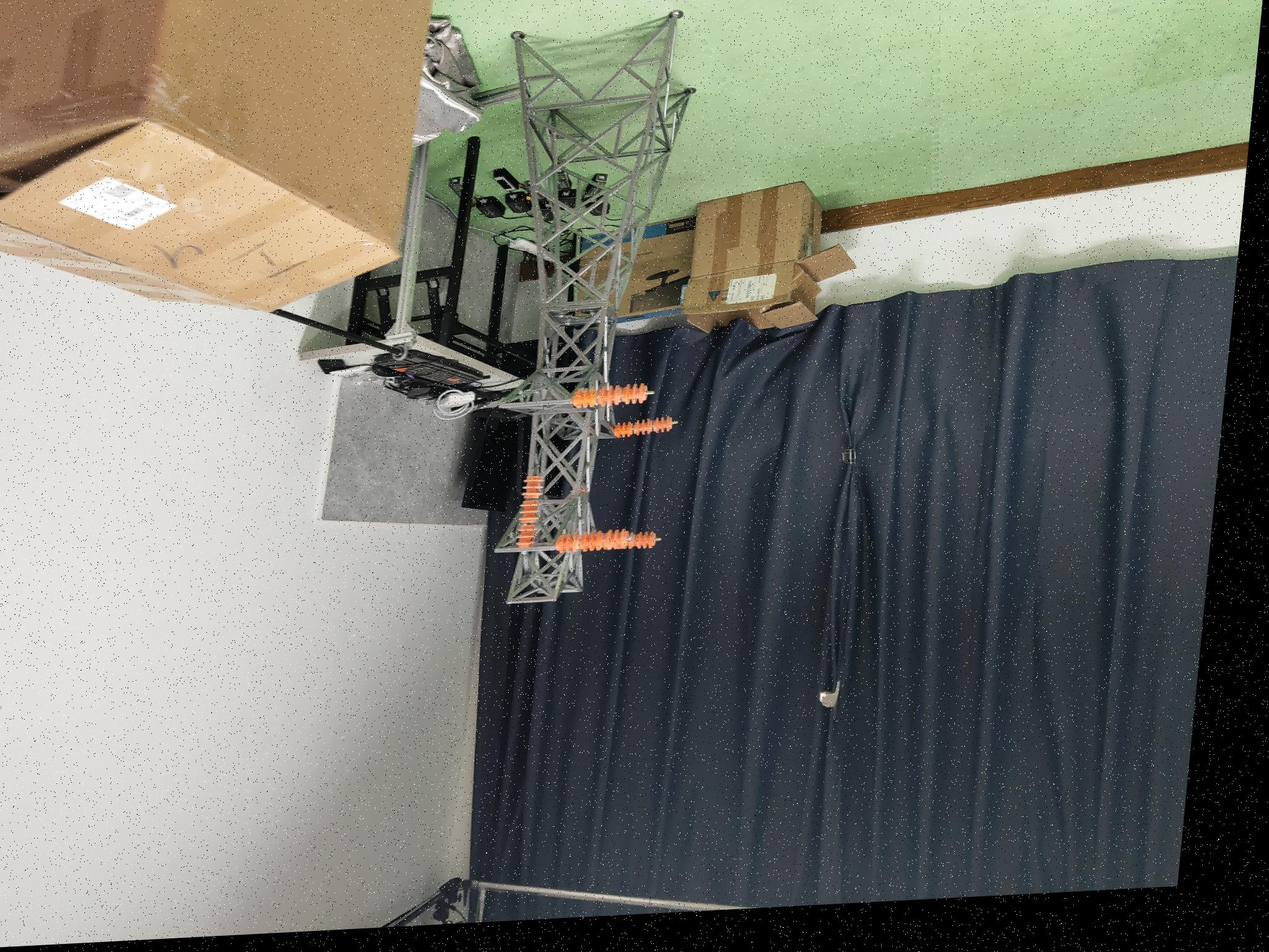tower: (461, 16, 702, 608)
